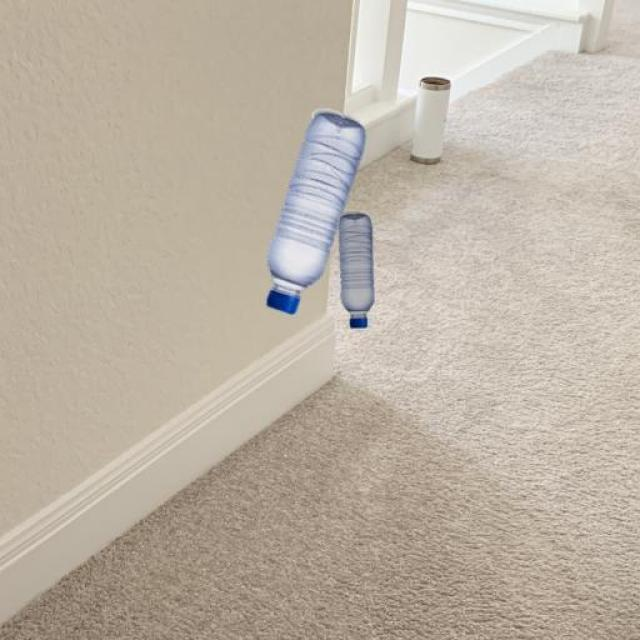bottle: (258, 102, 372, 323)
